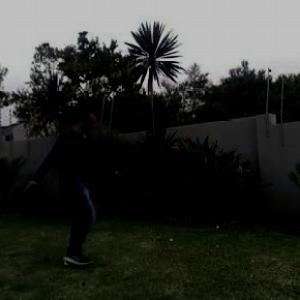land: (16, 90, 132, 280)
